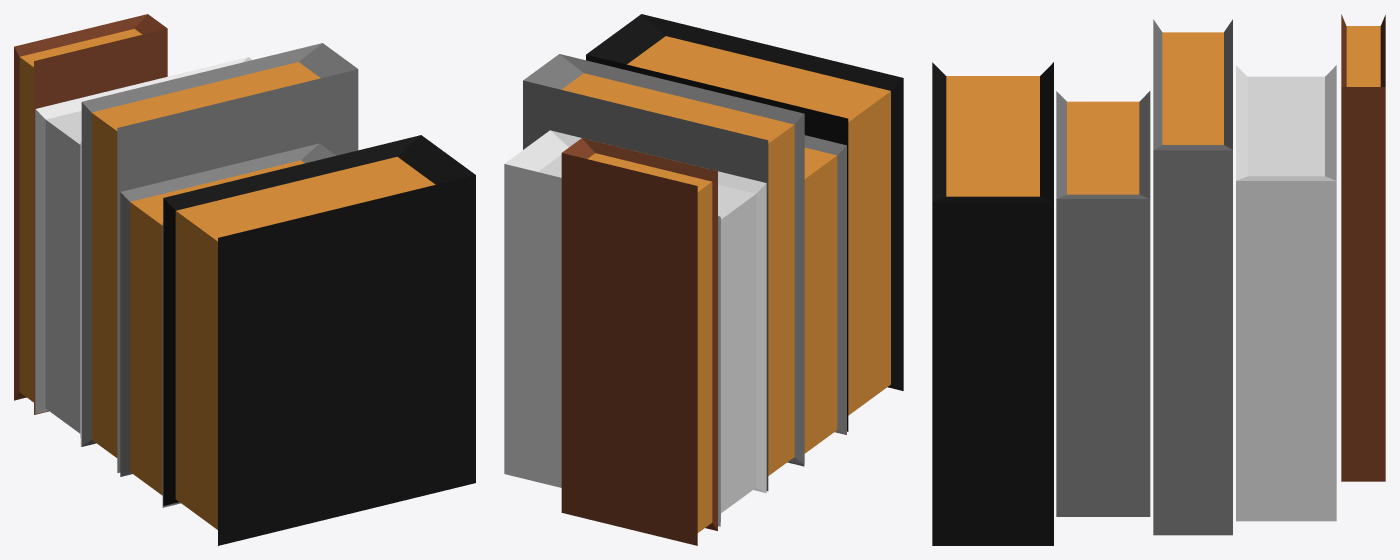
The model's file is books.glb.
3 renders of one model, left to right at view 1: azimuth 30°, elevation 25°; view 2: azimuth 150°, elevation 25°; view 3: azimuth 270°, elevation 25°, orthographic. The views are drawn at different scales.
Visible parts, largest first — view 1: Books; view 2: Books; view 3: Books.
Part boxes in pixels (<box>): Books: <box>14,14,475,545</box>; Books: <box>504,14,903,545</box>; Books: <box>932,14,1385,545</box>.
Size of the model in its own units: 1.41 by 1.84 by 1.92.
